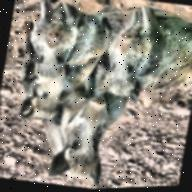boar: (92, 0, 192, 116), (18, 0, 117, 99)
